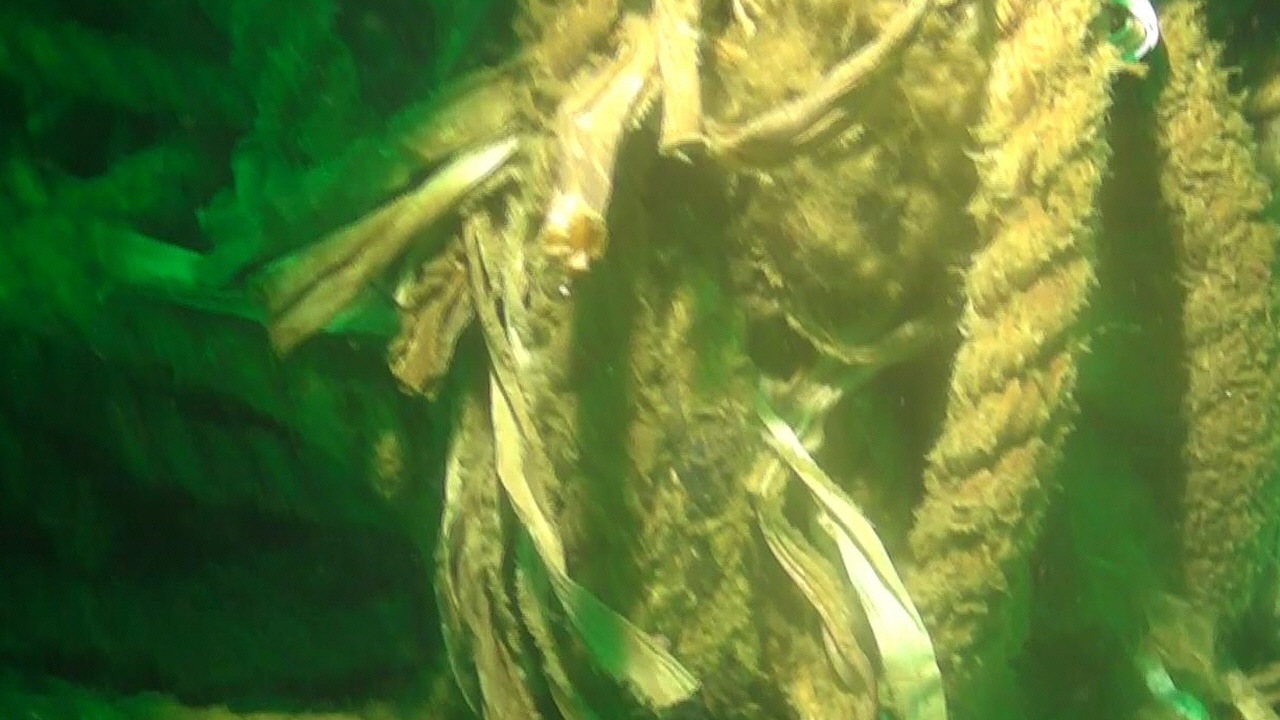bundle of ropes: (0, 0, 449, 720), (899, 0, 1280, 720)
